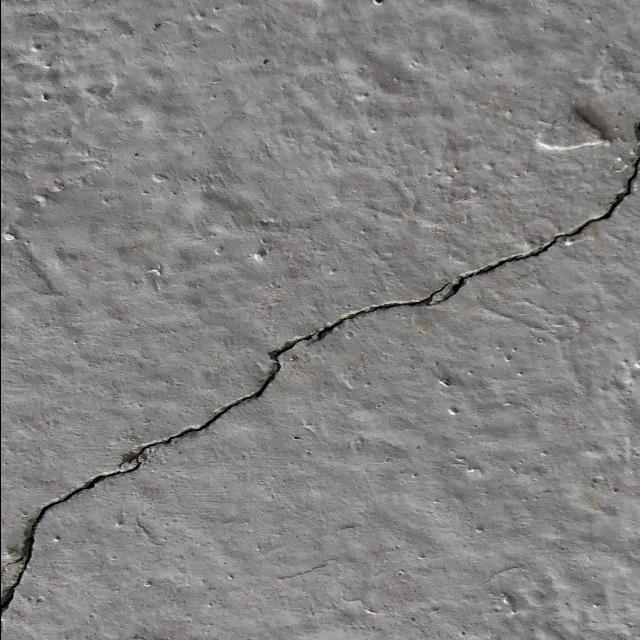SurfaceCrack: (1, 7, 640, 639)
